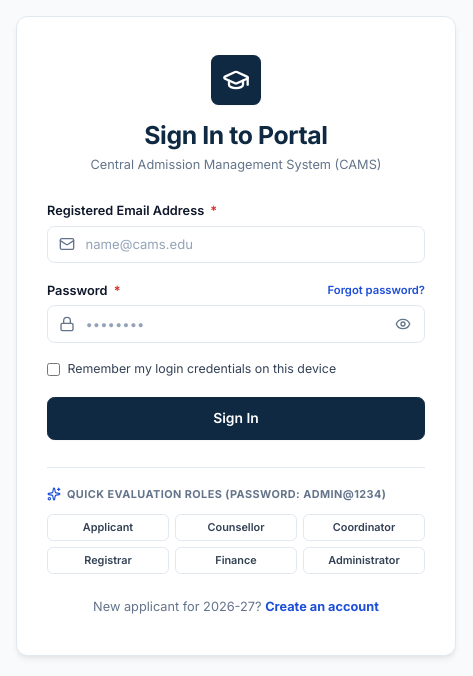
Test case: LoginPage Component › populates fields when an Administrator demo role button is clicked
The image size is (473, 676).
Click the button "Administrator" at point(364, 561), box [303,547,425,574]
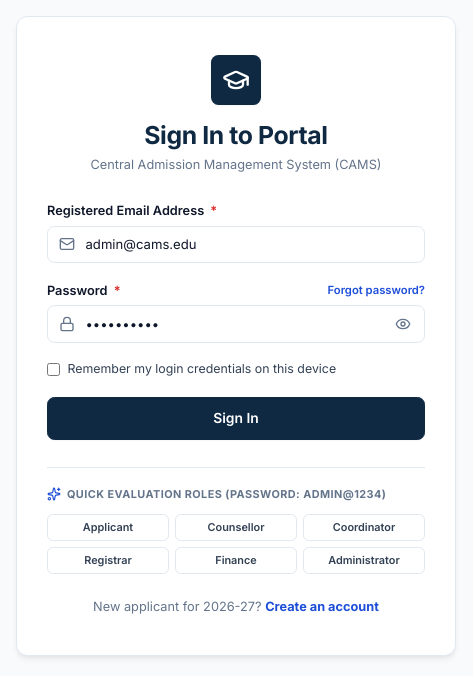
Result: the field with placeholder "name@cams.edu" holds "admin@cams.edu" at [47,226,425,263]
